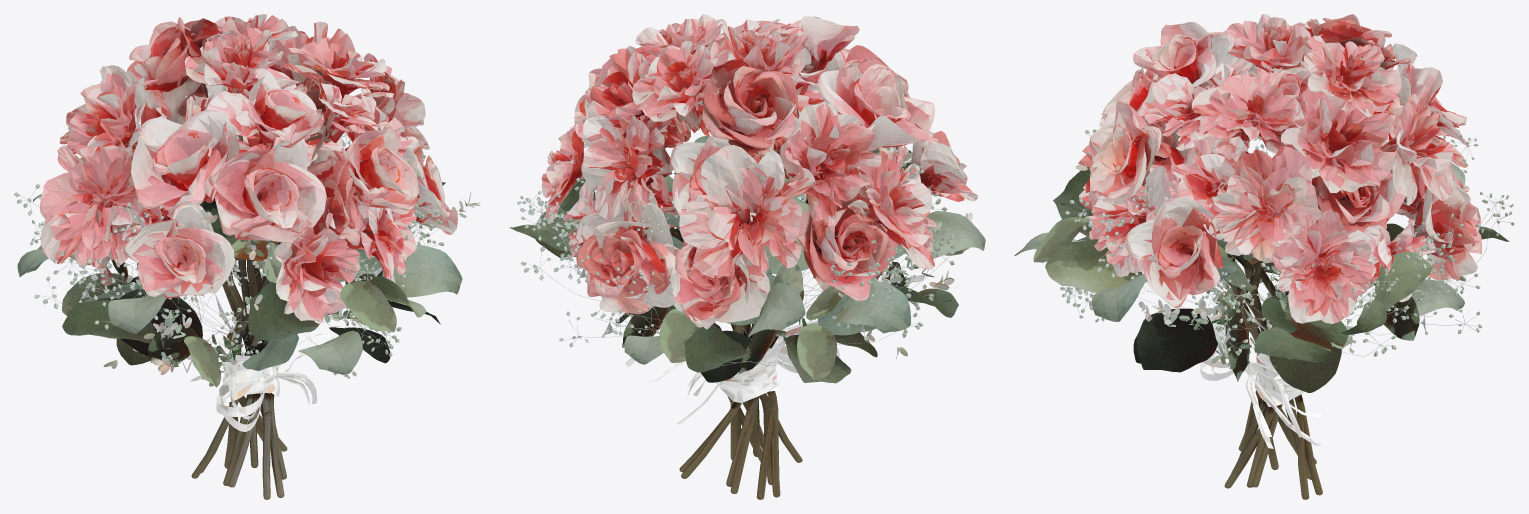
Rendered from flower-bouquet.v1.glb.
The picture shows the model from 3 angles, left to right: view 1: azimuth 30°, elevation 25°; view 2: azimuth 150°, elevation 25°; view 3: azimuth 270°, elevation 25°; orthographic projection. The views are drawn at different scales.
Visible parts, largest first — view 1: Leaves_002_Leaves6_0, Petal_010_Petals10_0, Petal_002_Petals2_0, Petal_012_Petals12_0, Petal_009_Petals8_0, Petal_005_Petals5_0, Petal_011_Petals11_0, Petal_004_Petals4_0, Stems_Stems_0, Petal_007_Petals7_0, Petal_008_Petals9_0, Ribbons_001_Ribbons1_0 (+7 smaller); view 2: Leaves_002_Leaves6_0, Petal_001_Petals1_0, Petal_003_Petals3_0, Petal_009_Petals8_0, Petal_002_Petals2_0, Petal_007_Petals7_0, Petal_012_Petals12_0, Petal_010_Petals10_0, Stems_Stems_0, Petal_011_Petals11_0, SmallPlants_004_SmallPlants2_0, Ribbons_001_Ribbons1_0 (+7 smaller); view 3: Petal_007_Petals7_0, Leaves_002_Leaves6_0, Petal_011_Petals11_0, Petal_006_Petals6_0, Petal_002_Petals2_0, Petal_001_Petals1_0, Petal_013_Petals14_0, Leaves_001_Leaves1_0, Petal_009_Petals8_0, Petal_010_Petals10_0, Stems_Stems_0, Petal_012_Petals12_0 (+7 smaller).
Boxes of the visible parts, x1,y1,x2,y2 form: Leaves_002_Leaves6_0: [17, 194, 462, 387]; Petal_010_Petals10_0: [39, 38, 394, 267]; Petal_002_Petals2_0: [67, 21, 362, 322]; Petal_012_Petals12_0: [131, 68, 323, 210]; Petal_009_Petals8_0: [91, 17, 369, 285]; Petal_005_Petals5_0: [208, 132, 326, 243]; Petal_011_Petals11_0: [121, 83, 419, 283]; Petal_004_Petals4_0: [124, 204, 234, 298]; Stems_Stems_0: [191, 135, 287, 499]; Petal_007_Petals7_0: [184, 14, 424, 162]; Petal_008_Petals9_0: [346, 121, 418, 214]; Ribbons_001_Ribbons1_0: [214, 307, 346, 431]; Leaves_002_Leaves6_0: [615, 147, 985, 383]; Petal_001_Petals1_0: [581, 115, 815, 278]; Petal_003_Petals3_0: [576, 202, 770, 329]; Petal_009_Petals8_0: [622, 59, 897, 302]; Petal_002_Petals2_0: [575, 46, 897, 225]; Petal_007_Petals7_0: [541, 26, 811, 222]; Petal_012_Petals12_0: [697, 16, 938, 151]; Petal_010_Petals10_0: [635, 14, 936, 269]; Stems_Stems_0: [670, 198, 808, 499]; Petal_011_Petals11_0: [563, 19, 921, 270]; SmallPlants_004_SmallPlants2_0: [517, 144, 956, 347]; Ribbons_001_Ribbons1_0: [625, 321, 841, 424]; Petal_007_Petals7_0: [1220, 14, 1401, 323]; Leaves_002_Leaves6_0: [1014, 163, 1509, 392]; Petal_011_Petals11_0: [1088, 58, 1435, 302]; Petal_006_Petals6_0: [1209, 68, 1321, 263]; Petal_002_Petals2_0: [1078, 18, 1396, 239]; Petal_001_Petals1_0: [1380, 43, 1469, 205]; Petal_013_Petals14_0: [1124, 100, 1402, 308]; Leaves_001_Leaves1_0: [1217, 238, 1432, 362]; Petal_009_Petals8_0: [1132, 14, 1411, 233]; Petal_010_Petals10_0: [1192, 68, 1301, 153]; Stems_Stems_0: [1224, 182, 1322, 499]; Petal_012_Petals12_0: [1133, 22, 1312, 102].
Size of the model in its own units: 0.3586 by 0.3863 by 0.3838.
20 materials, 20 textured.
